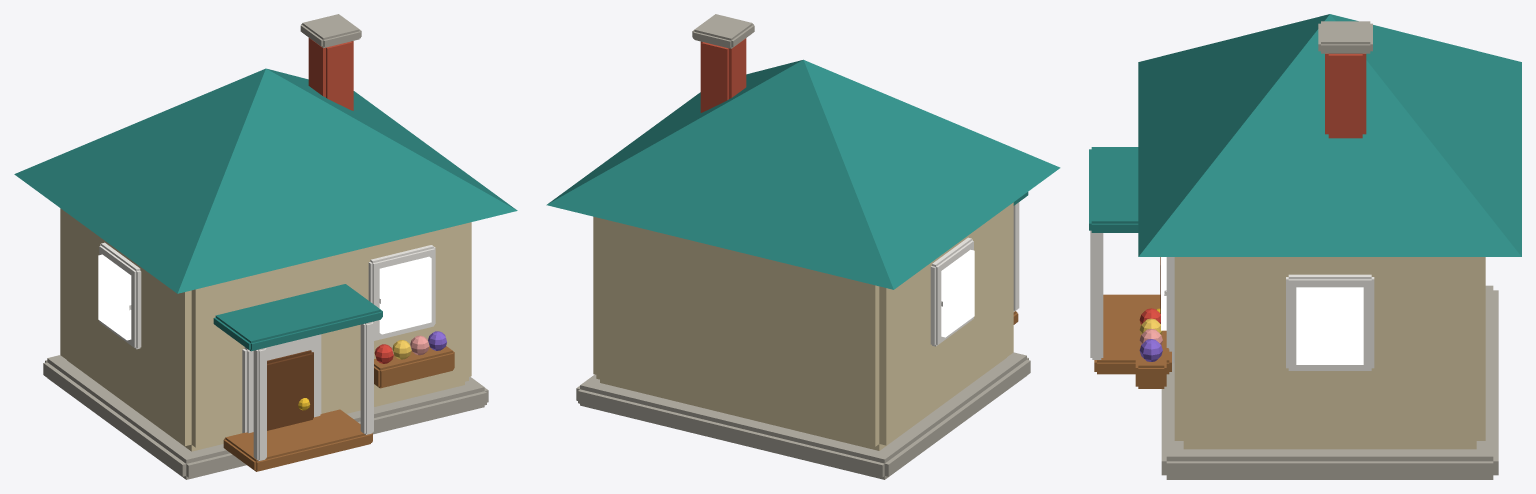
Rendered from house_sand.glb.
The picture shows the model from 3 angles, left to right: view 1: azimuth 30°, elevation 25°; view 2: azimuth 150°, elevation 25°; view 3: azimuth 270°, elevation 25°; orthographic projection. The views are drawn at different scales.
Visible parts, largest first — view 1: house_sand; view 2: house_sand; view 3: house_sand.
Boxes of the visible parts, left/top/right/bottom form: house_sand: left=14, top=14, right=517, bottom=479; house_sand: left=546, top=14, right=1060, bottom=479; house_sand: left=1089, top=14, right=1521, bottom=479.
Size of the model in its own units: 1.78 by 1.72 by 1.67.
